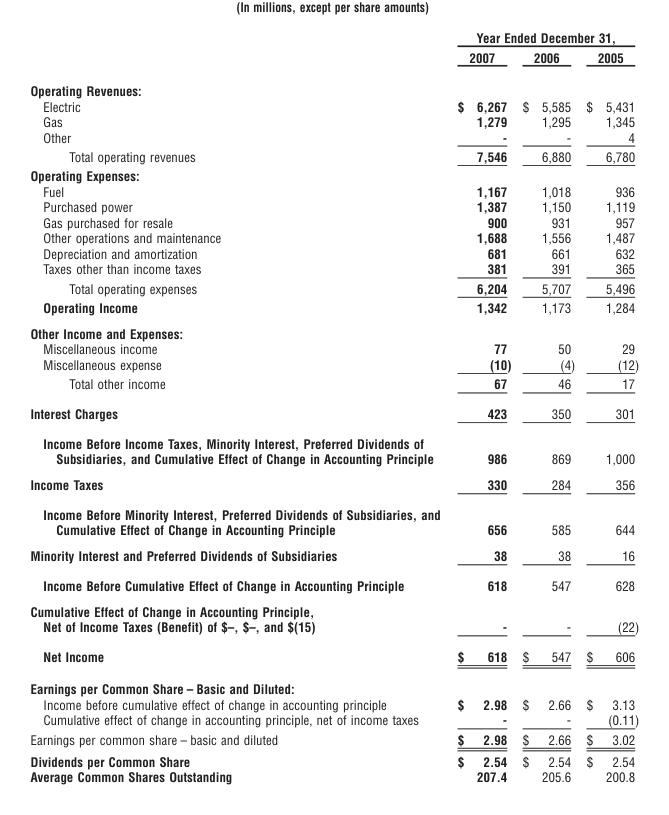table: (29, 29, 638, 784)
table column: (29, 29, 448, 784), (448, 29, 516, 784), (516, 29, 580, 784), (580, 29, 638, 784)
table column header: (29, 29, 638, 73)
table projected row header: (29, 73, 638, 98), (29, 672, 638, 696), (29, 320, 638, 340), (29, 165, 638, 183)
table row: (29, 428, 638, 471), (29, 499, 638, 542), (29, 598, 638, 641), (29, 641, 638, 672), (29, 398, 638, 428), (29, 471, 638, 499), (29, 542, 638, 570), (29, 570, 638, 598), (29, 47, 638, 73), (29, 73, 638, 98), (29, 373, 638, 398), (29, 672, 638, 696), (29, 297, 638, 320), (29, 320, 638, 340), (29, 729, 638, 749), (29, 146, 638, 165), (29, 278, 638, 297), (29, 749, 638, 768), (29, 29, 638, 47), (29, 165, 638, 183), (29, 260, 638, 278), (29, 711, 638, 729), (29, 129, 638, 146), (29, 356, 638, 373), (29, 113, 638, 129), (29, 198, 638, 214), (29, 229, 638, 245), (29, 340, 638, 356), (29, 768, 638, 784), (29, 98, 638, 113), (29, 183, 638, 198), (29, 214, 638, 229), (29, 245, 638, 260), (29, 696, 638, 711)
table spanning cell: (448, 29, 638, 47)
